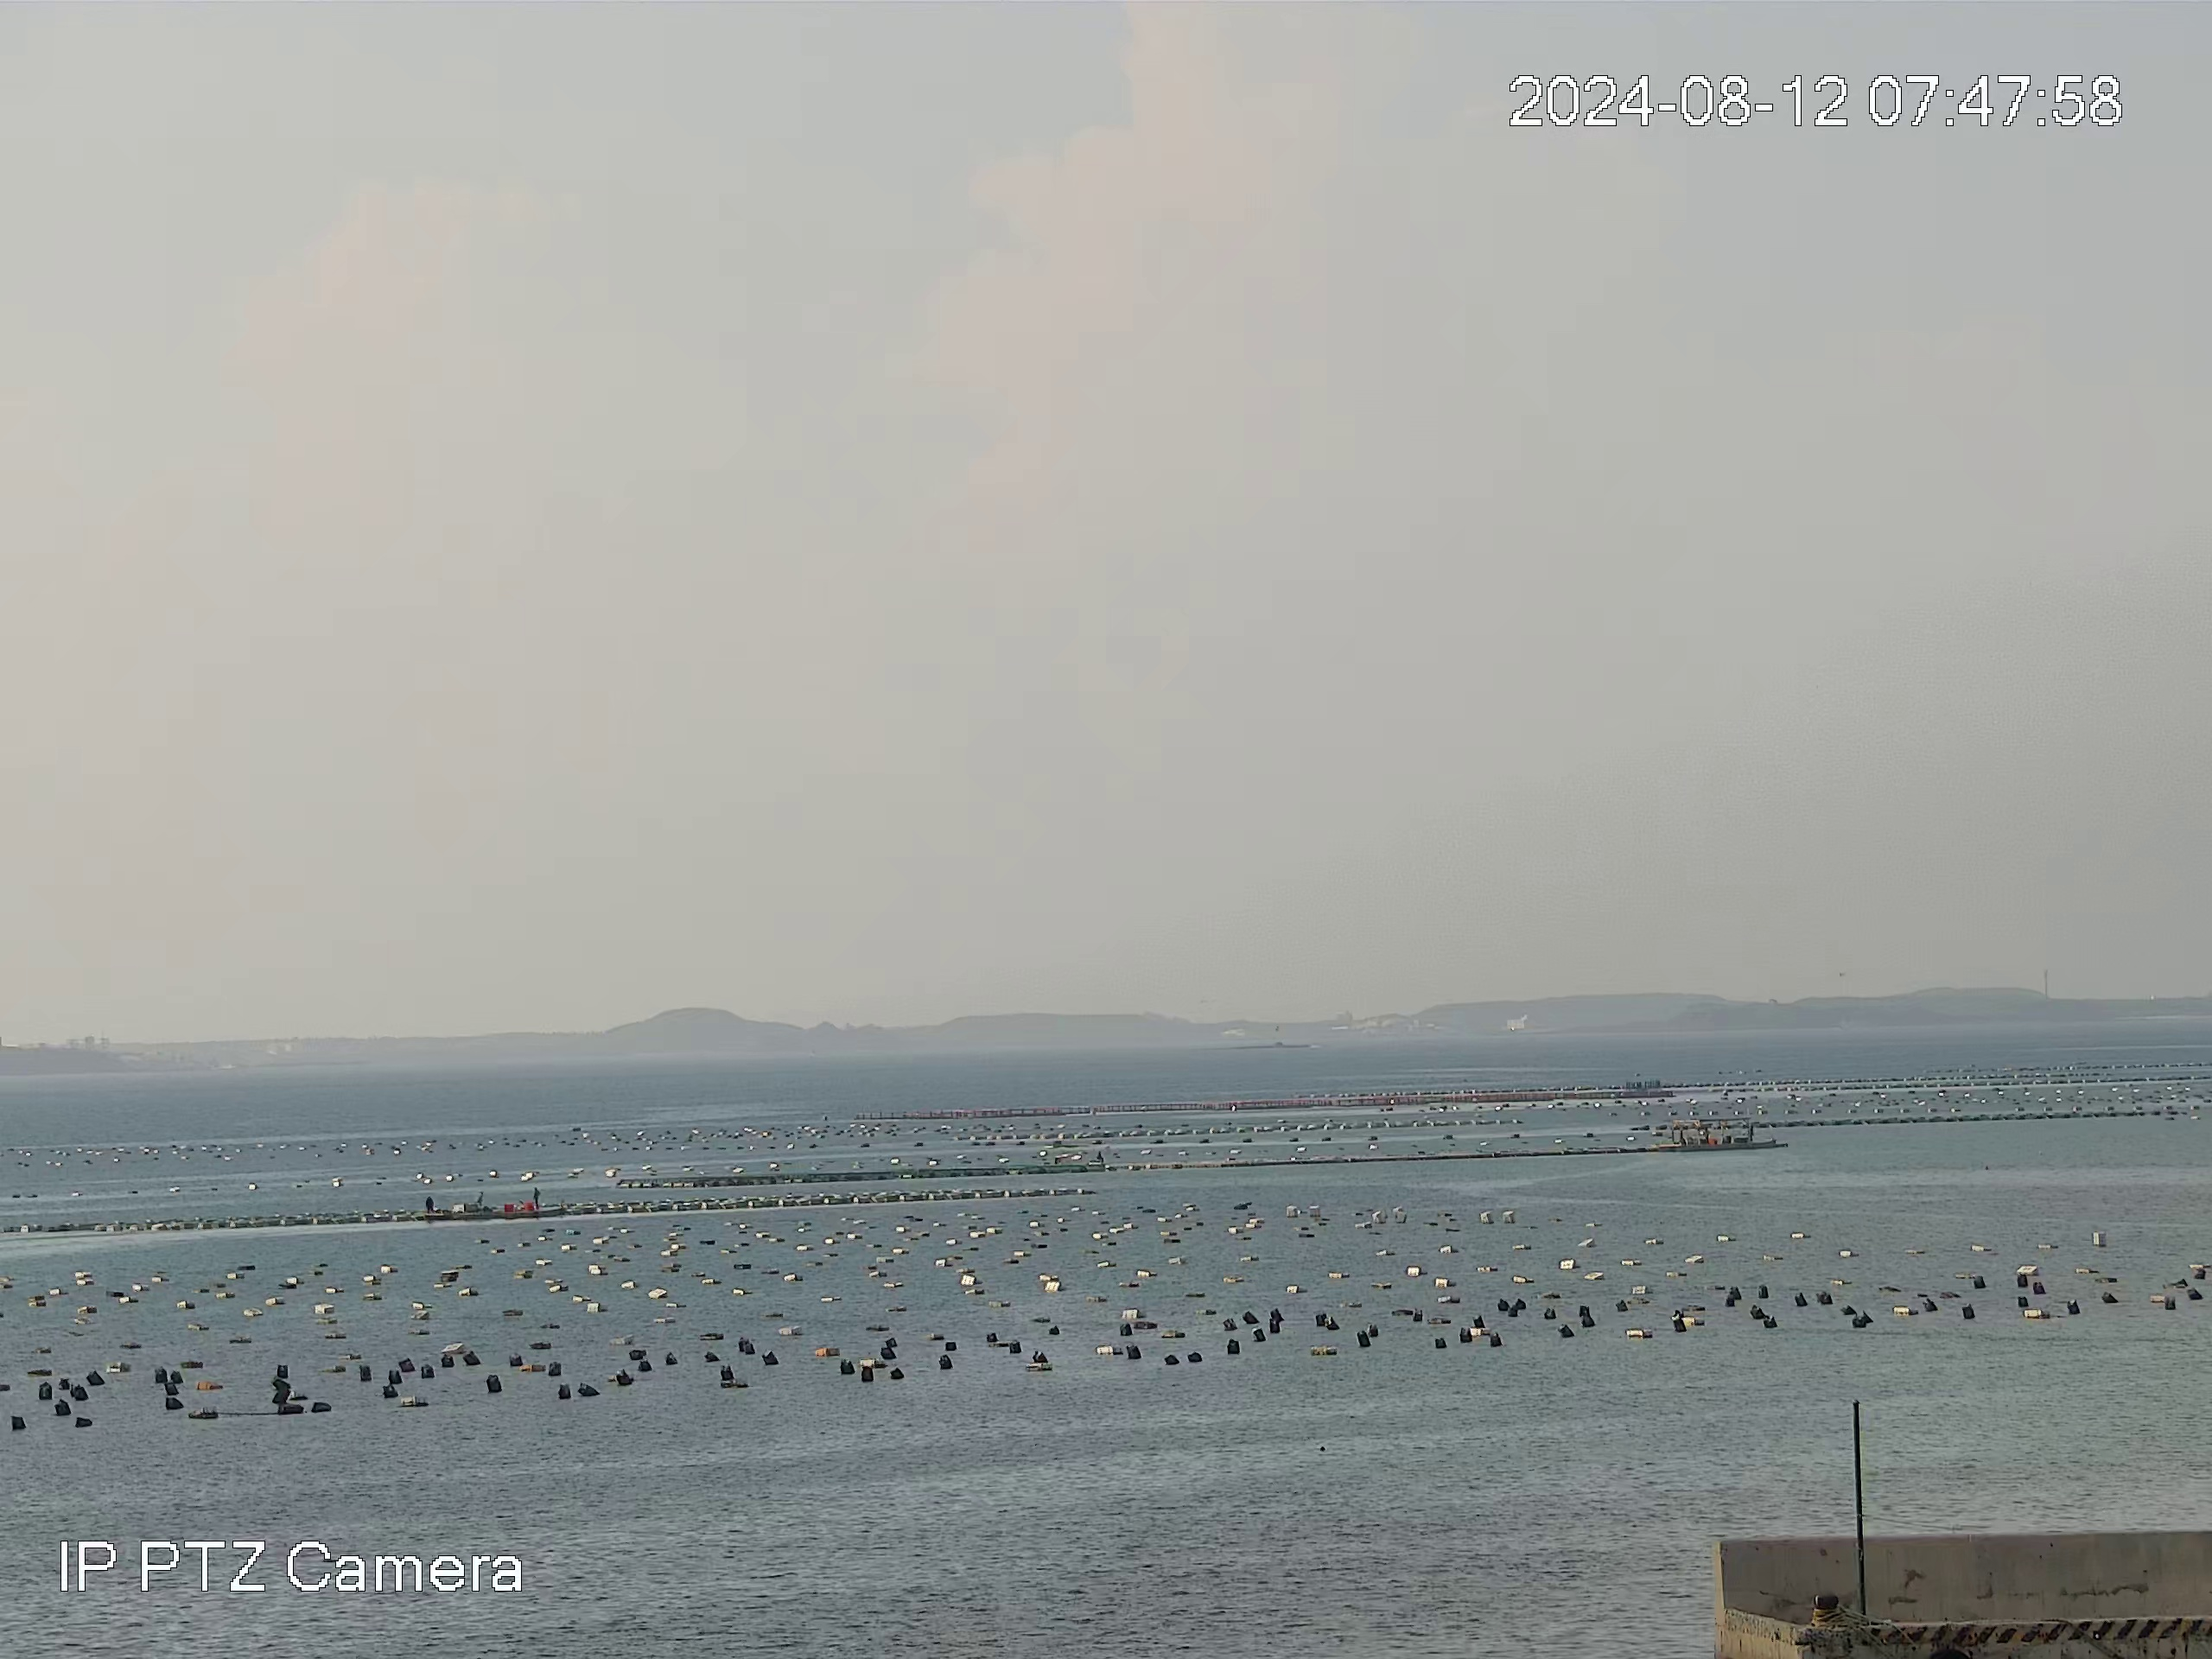boat: (423, 1187, 564, 1222), (1669, 1115, 1756, 1152)
